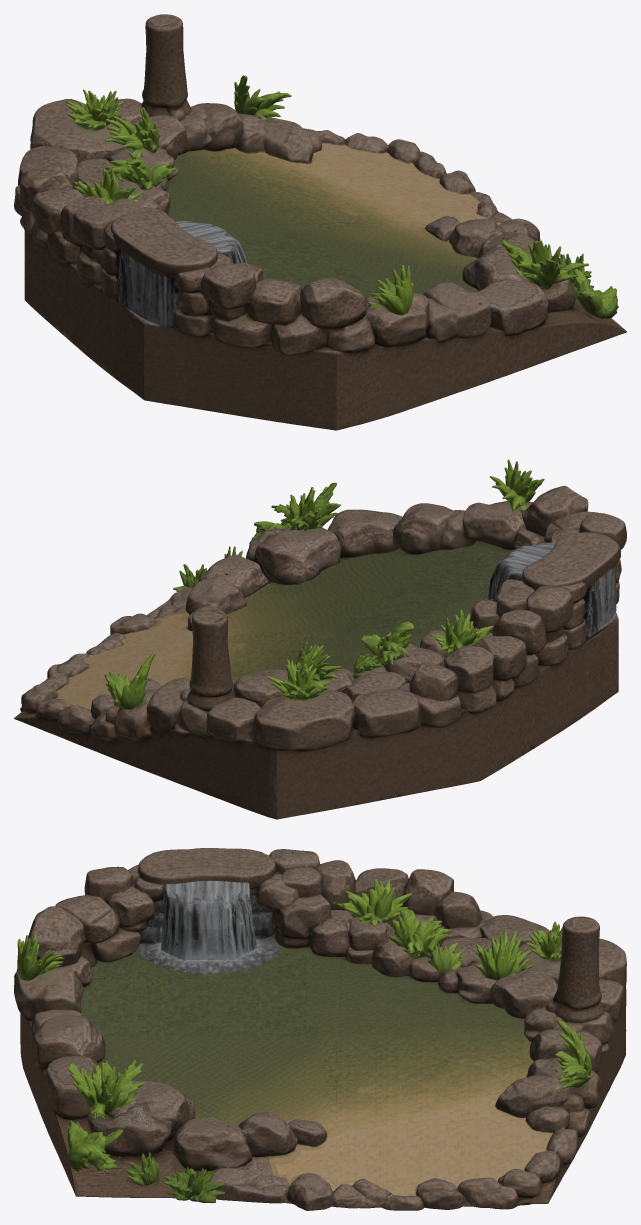
Rendered from pond1.glb.
3 views of the same model, one above another, from view 1: azimuth 30°, elevation 25°; view 2: azimuth 150°, elevation 25°; view 3: azimuth 270°, elevation 25° (orthographic). The views are drawn at different scales.
Visible parts, largest first — view 1: tripo_node_0f855f8c-6293-4292-874b-6ad9739012f0; view 2: tripo_node_0f855f8c-6293-4292-874b-6ad9739012f0; view 3: tripo_node_0f855f8c-6293-4292-874b-6ad9739012f0.
Boxes of the visible parts, x1,y1,x2,y2 form: tripo_node_0f855f8c-6293-4292-874b-6ad9739012f0: [14, 14, 626, 430]; tripo_node_0f855f8c-6293-4292-874b-6ad9739012f0: [14, 459, 626, 819]; tripo_node_0f855f8c-6293-4292-874b-6ad9739012f0: [14, 848, 626, 1210].
Bounding box in the file's own units: 0.8682 × 0.3123 × 1.
1 material, 1 textured.
